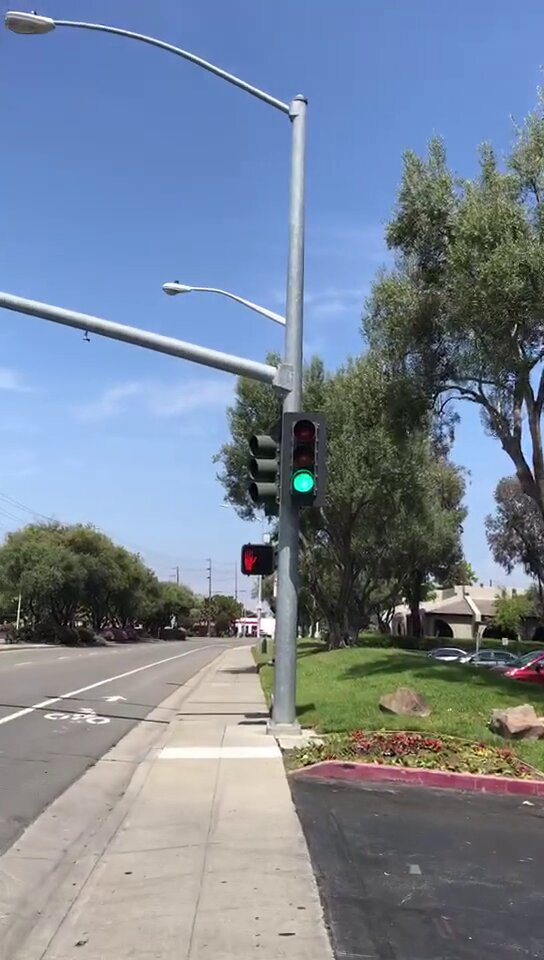green_light: (282, 413, 323, 505)
